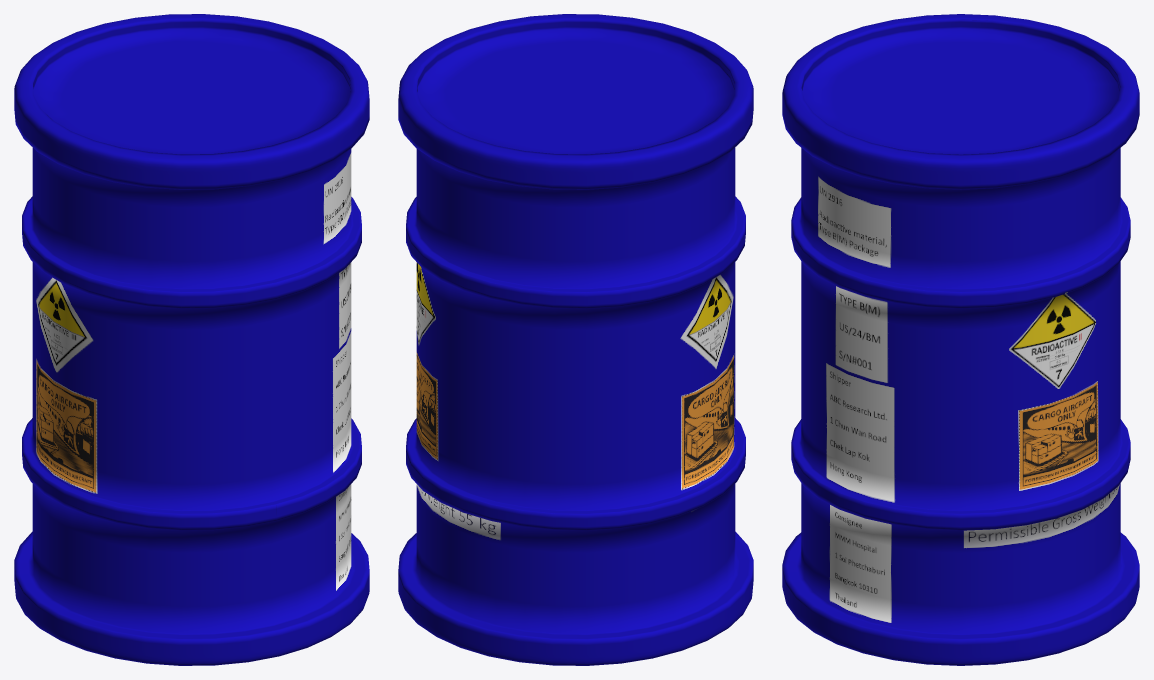
File: barrelpackage_incorrect_5.fbx
3 views of the same model, side by side, from view 1: azimuth 30°, elevation 25°; view 2: azimuth 150°, elevation 25°; view 3: azimuth 270°, elevation 25° (orthographic).
Visible parts, largest first — view 1: Cylinder; view 2: Cylinder; view 3: Cylinder.
Part boxes in pixels (left/top/right/bottom): Cylinder: left=14, top=14, right=369, bottom=665; Cylinder: left=398, top=14, right=753, bottom=665; Cylinder: left=782, top=14, right=1139, bottom=665.
Size of the model in its own units: 201 by 316 by 202.
Materials: 1 (1 with a texture image).
